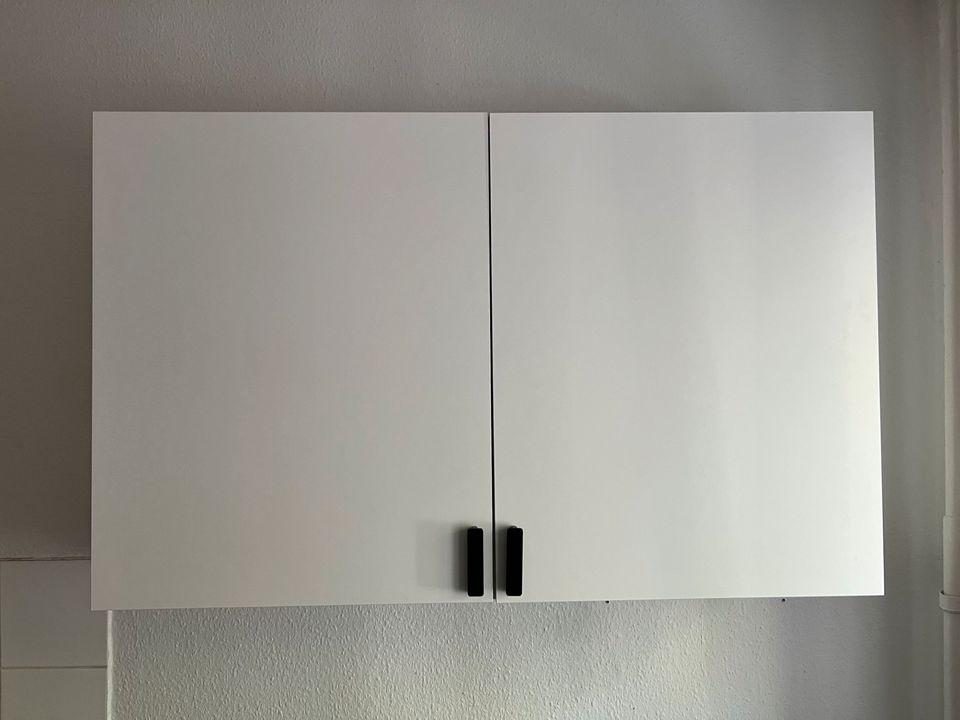cabinet_door: (90, 111, 486, 598), (492, 112, 878, 599)
handle: (460, 522, 485, 599), (501, 522, 526, 599)
